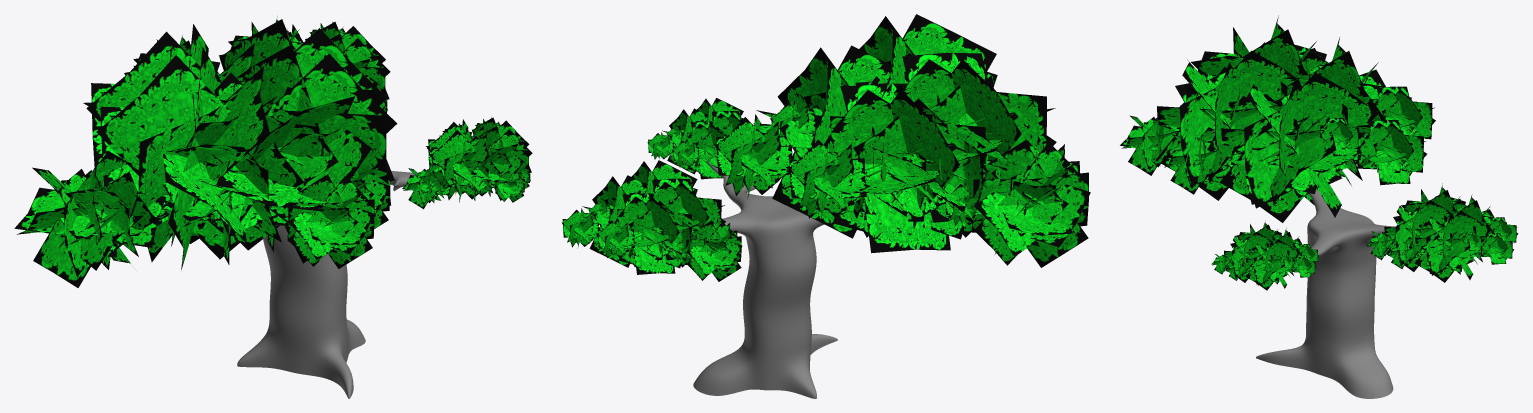
The model's file is BigWoodsTree2.fbx.
3 views of the same model, side by side, from view 1: azimuth 30°, elevation 25°; view 2: azimuth 150°, elevation 25°; view 3: azimuth 270°, elevation 25° (orthographic). The views are drawn at different scales.
Visible parts, largest first — view 1: Object047; view 2: Object047; view 3: Object047.
Part boxes in pixels (left/top/right/bottom): Object047: left=14, top=16, right=532, bottom=398; Object047: left=561, top=14, right=1090, bottom=398; Object047: left=1120, top=15, right=1518, bottom=398.
Bounding box in the file's own units: 1834 × 1373 × 1691.
2 materials, 1 textured.
